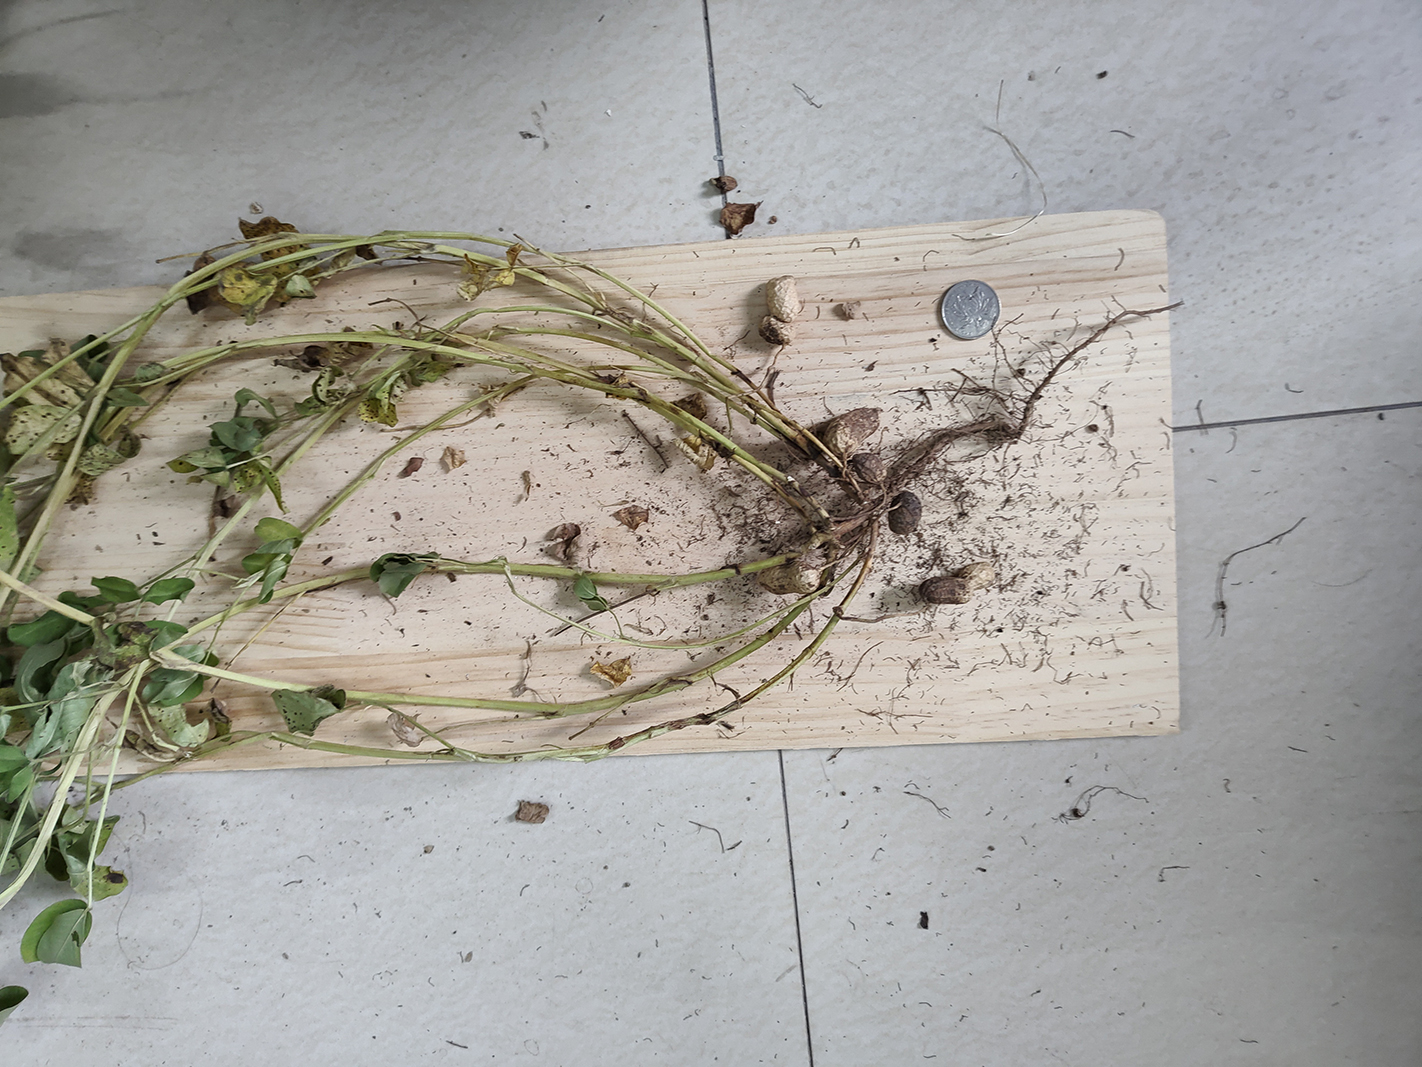h: (758, 275, 801, 347), (760, 566, 818, 594)
l: (921, 562, 996, 605), (822, 407, 880, 454), (890, 493, 922, 536), (852, 454, 885, 483)
